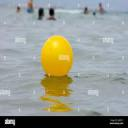yellow: (40, 35, 74, 77)
